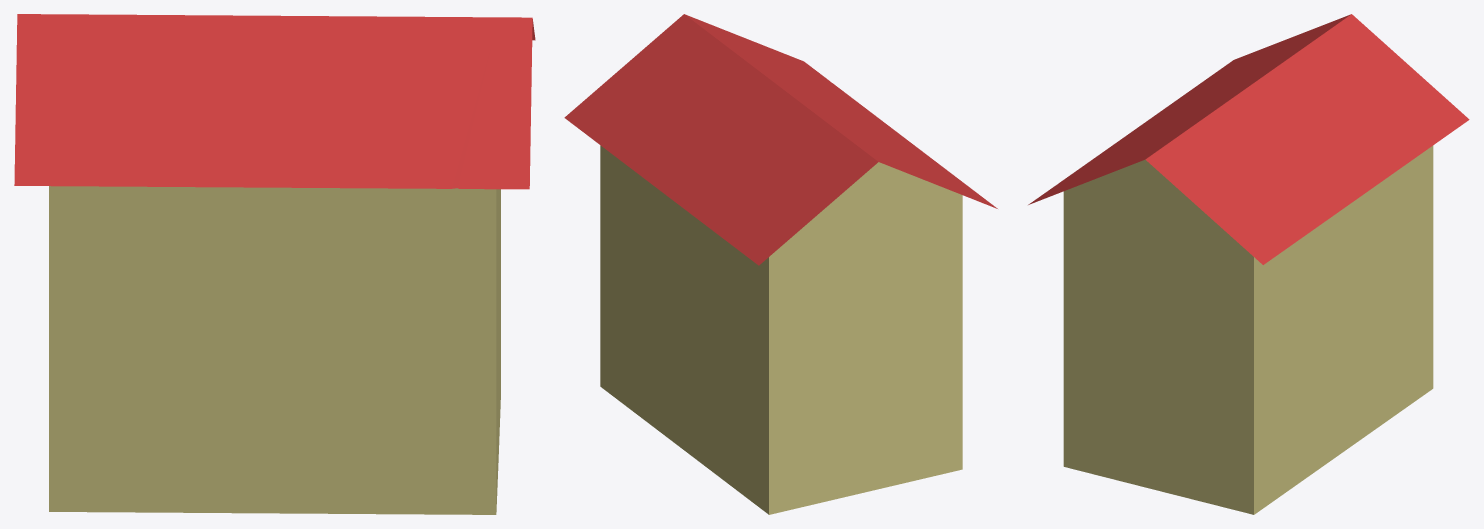
3 renders of one model, left to right at view 1: azimuth 30°, elevation 25°; view 2: azimuth 150°, elevation 25°; view 3: azimuth 270°, elevation 25°, orthographic. The views are drawn at different scales.
Bounding box in the file's own units: 18.36 × 16.72 × 14.21.
